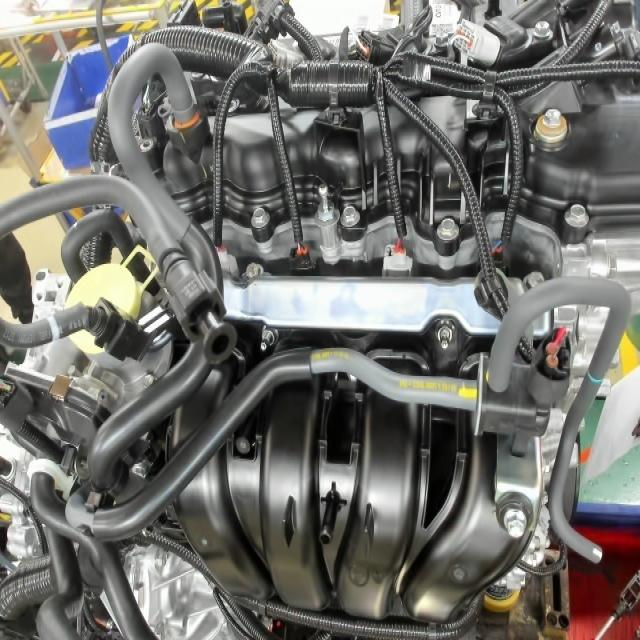Hose Canister-HJ: (586, 366, 606, 388)
Tube Sub Assy Fuel-W: (37, 308, 68, 349)
